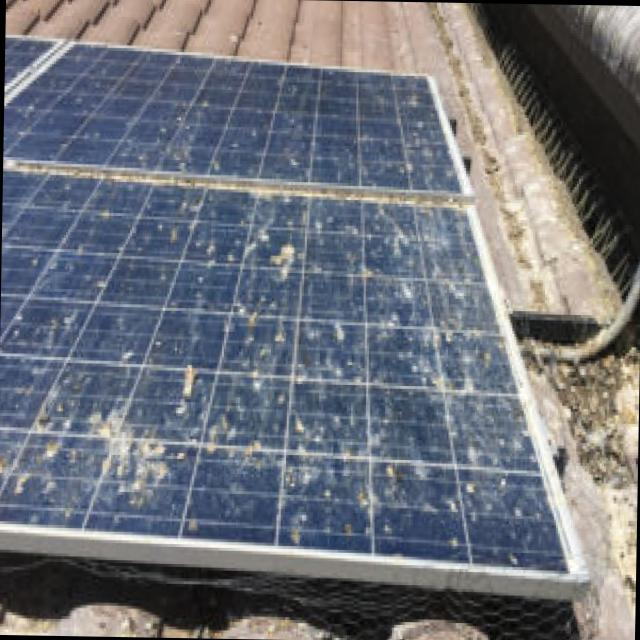faulty: (0, 50, 566, 572)
